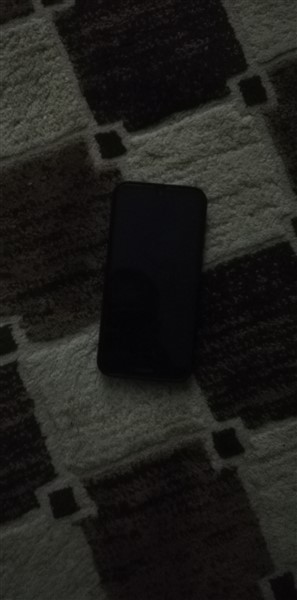telefon: (97, 172, 210, 391)
